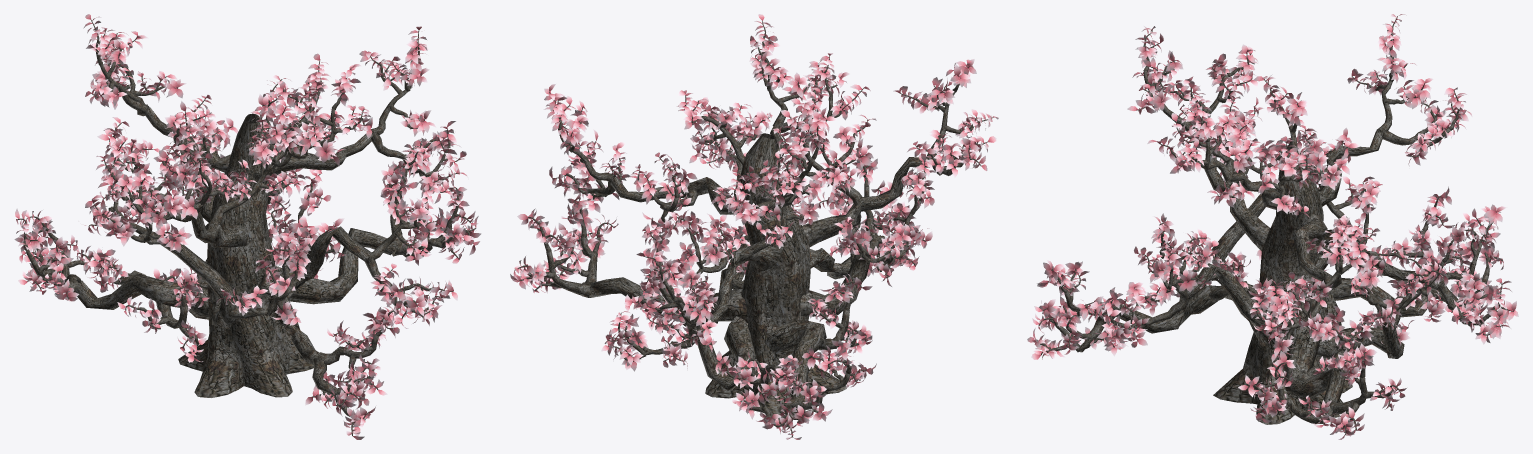
The model's file is mainTree.glb.
The picture shows the model from 3 angles, left to right: view 1: azimuth 30°, elevation 25°; view 2: azimuth 150°, elevation 25°; view 3: azimuth 270°, elevation 25°; orthographic projection. The views are drawn at different scales.
Parts seen in each view (by area): view 1: Leaves, Branches, 43-OldOak-L; view 2: Leaves, Branches, 43-OldOak-L; view 3: Leaves, Branches, 43-OldOak-L.
Part boxes in pixels (box(x1,y1,x2,y2)): Leaves: box(14, 14, 481, 439); Branches: box(17, 19, 476, 435); 43-OldOak-L: box(178, 113, 313, 397); Leaves: box(510, 14, 998, 439); Branches: box(514, 20, 993, 437); 43-OldOak-L: box(705, 133, 846, 414); Leaves: box(1027, 14, 1518, 439); Branches: box(1038, 16, 1513, 435); 43-OldOak-L: box(1213, 148, 1352, 424).
Size of the model in its own units: 16.05 by 12.57 by 16.61.
2 materials, 2 textured.
